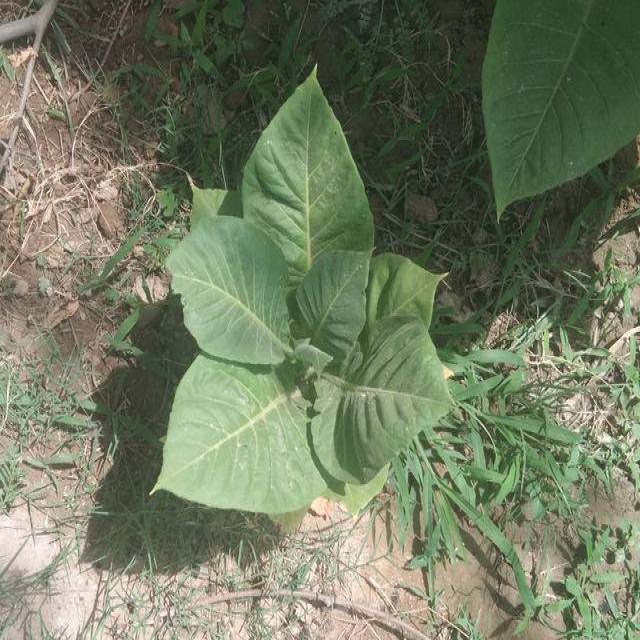crop: (155, 54, 461, 540)
